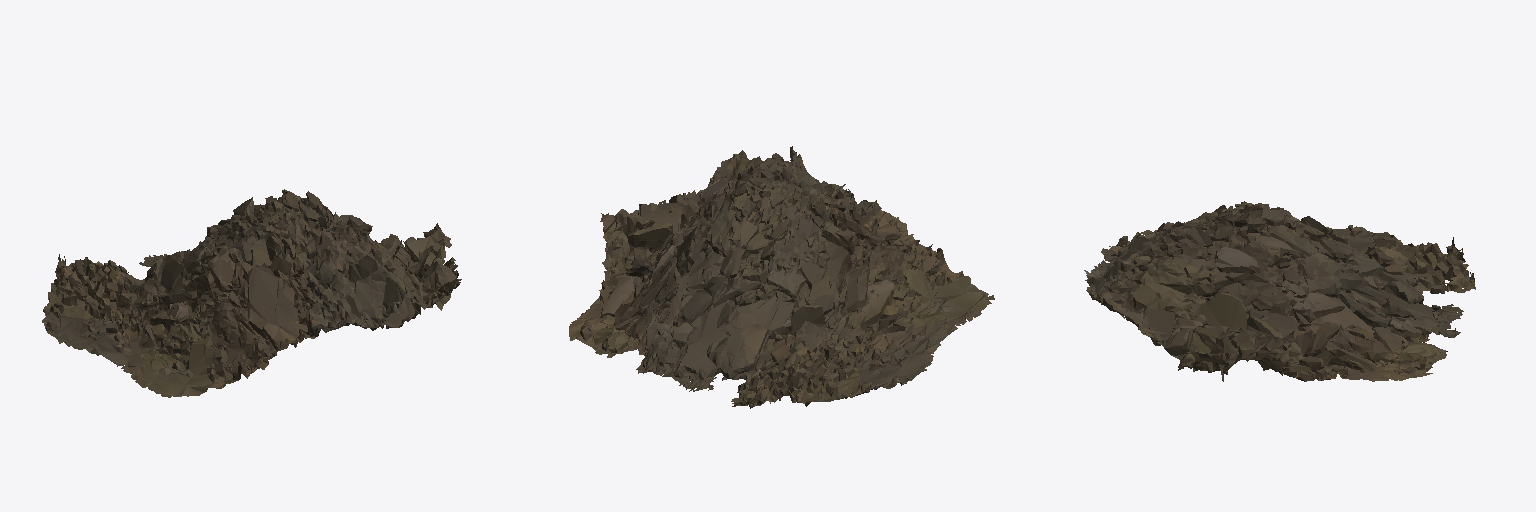
3 renders of one model, left to right at view 1: azimuth 30°, elevation 25°; view 2: azimuth 150°, elevation 25°; view 3: azimuth 270°, elevation 25°, orthographic.
Parts seen in each view (by area): view 1: Rubble; view 2: Rubble; view 3: Rubble.
Boxes of the visible parts, <box> form: Rubble: <box>42,189,461,397</box>; Rubble: <box>569,146,994,408</box>; Rubble: <box>1084,201,1475,381</box>.
Bounding box in the file's own units: 5.85 × 2 × 5.57.
1 materials, 1 textured.